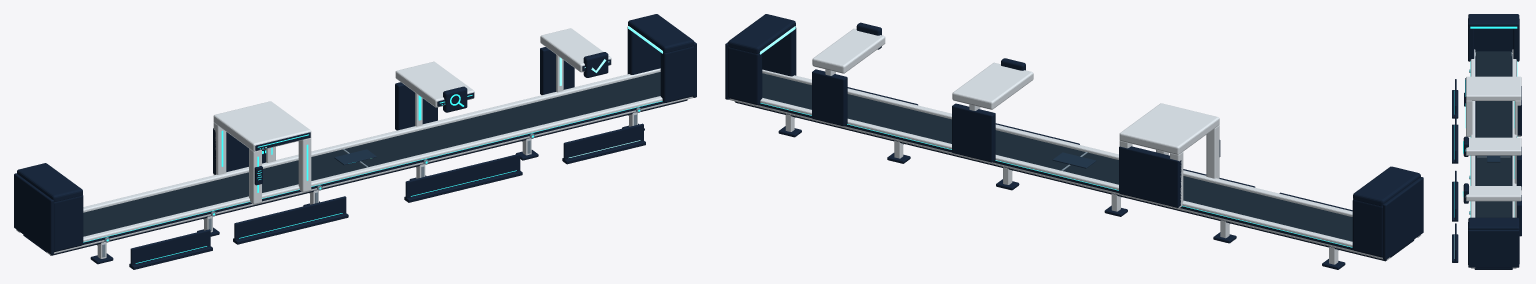
The model's file is fliessband.glb.
The picture shows the model from 3 angles, left to right: view 1: azimuth 30°, elevation 25°; view 2: azimuth 150°, elevation 25°; view 3: azimuth 270°, elevation 25°; orthographic projection. The views are drawn at different scales.
Parts seen in each view (by area): view 1: Daten_Fliessband_Deck, Daten_Fliessband_Rail_Front, Daten_Fliessband_Rail_Rear, Daten_Fliessband_DigitizerRoof, Daten_Fliessband_InputEndShield, Daten_Fliessband_StagePlaque_3, Daten_Fliessband_StagePlaque_2, Daten_Fliessband_QARoof, Daten_Fliessband_OutputCowl_Front, Daten_Fliessband_RailInset_Front, Daten_Fliessband_InputCowl_Front, Daten_Fliessband_StagePlaque_1 (+19 smaller); view 2: Daten_Fliessband_Deck, Daten_Fliessband_Rail_Rear, Daten_Fliessband_DigitizerRoof, Daten_Fliessband_DigitizerRearService, Daten_Fliessband_Rail_Front, Daten_Fliessband_InputEndShield, Daten_Fliessband_QARoof, Daten_Fliessband_QARearService, Daten_Fliessband_ReleaseRoof, Daten_Fliessband_ReleaseRearService, Daten_Fliessband_OutputCowl_Rear, Daten_Fliessband_InputCowl_Rear (+7 smaller); view 3: Daten_Fliessband_Deck, Daten_Fliessband_OutputEndShield, Daten_Fliessband_DigitizerRoof, Daten_Fliessband_QARoof, Daten_Fliessband_InputEndShield, Daten_Fliessband_ReleaseRoof, Daten_Fliessband_InputCowlRoof, Daten_Fliessband_OutputCowlRoof, Daten_Fliessband_Rail_Front, Daten_Fliessband_Chassis, Daten_Fliessband_Rail_Rear, Daten_Fliessband_DigitizerPier_FrontRight (+20 smaller).
Part boxes in pixels (<box>): Daten_Fliessband_Deck: <box>83,72,660,236</box>; Daten_Fliessband_Rail_Front: <box>46,96,693,254</box>; Daten_Fliessband_Rail_Rear: <box>16,68,660,232</box>; Daten_Fliessband_DigitizerRoof: <box>213,101,311,151</box>; Daten_Fliessband_InputEndShield: <box>14,173,53,254</box>; Daten_Fliessband_StagePlaque_3: <box>405,154,520,198</box>; Daten_Fliessband_StagePlaque_2: <box>234,196,346,240</box>; Daten_Fliessband_QARoof: <box>395,61,474,107</box>; Daten_Fliessband_OutputCowl_Front: <box>660,46,694,102</box>; Daten_Fliessband_RailInset_Front: <box>83,101,664,244</box>; Daten_Fliessband_InputCowl_Front: <box>54,195,83,252</box>; Daten_Fliessband_StagePlaque_1: <box>130,229,210,265</box>; Daten_Fliessband_Deck: <box>762,73,1352,241</box>; Daten_Fliessband_Rail_Rear: <box>728,98,1390,260</box>; Daten_Fliessband_DigitizerRoof: <box>1119,103,1219,154</box>; Daten_Fliessband_DigitizerRearService: <box>1119,146,1181,207</box>; Daten_Fliessband_Rail_Front: <box>762,69,1421,237</box>; Daten_Fliessband_InputEndShield: <box>1383,177,1423,260</box>; Daten_Fliessband_QARoof: <box>952,62,1033,109</box>; Daten_Fliessband_QARearService: <box>952,103,995,162</box>; Daten_Fliessband_ReleaseRoof: <box>812,28,885,73</box>; Daten_Fliessband_ReleaseRearService: <box>812,69,847,126</box>; Daten_Fliessband_OutputCowl_Rear: <box>728,47,762,104</box>; Daten_Fliessband_InputCowl_Rear: <box>1352,199,1382,257</box>; Daten_Fliessband_Deck: <box>1476,51,1511,217</box>; Daten_Fliessband_OutputEndShield: <box>1468,230,1519,267</box>; Daten_Fliessband_DigitizerRoof: <box>1466,76,1521,100</box>; Daten_Fliessband_QARoof: <box>1466,137,1521,155</box>; Daten_Fliessband_InputEndShield: <box>1474,28,1513,52</box>; Daten_Fliessband_ReleaseRoof: <box>1466,186,1521,201</box>; Daten_Fliessband_InputCowlRoof: <box>1468,14,1519,27</box>; Daten_Fliessband_OutputCowlRoof: <box>1468,217,1519,229</box>; Daten_Fliessband_Rail_Front: <box>1470,49,1475,268</box>; Daten_Fliessband_Chassis: <box>1474,54,1512,269</box>; Daten_Fliessband_Rail_Rear: <box>1512,49,1516,268</box>; Daten_Fliessband_DigitizerPier_FrontRight: <box>1466,100,1472,136</box>.
Size of the model in its own units: 24.33 by 3.32 by 3.34.
